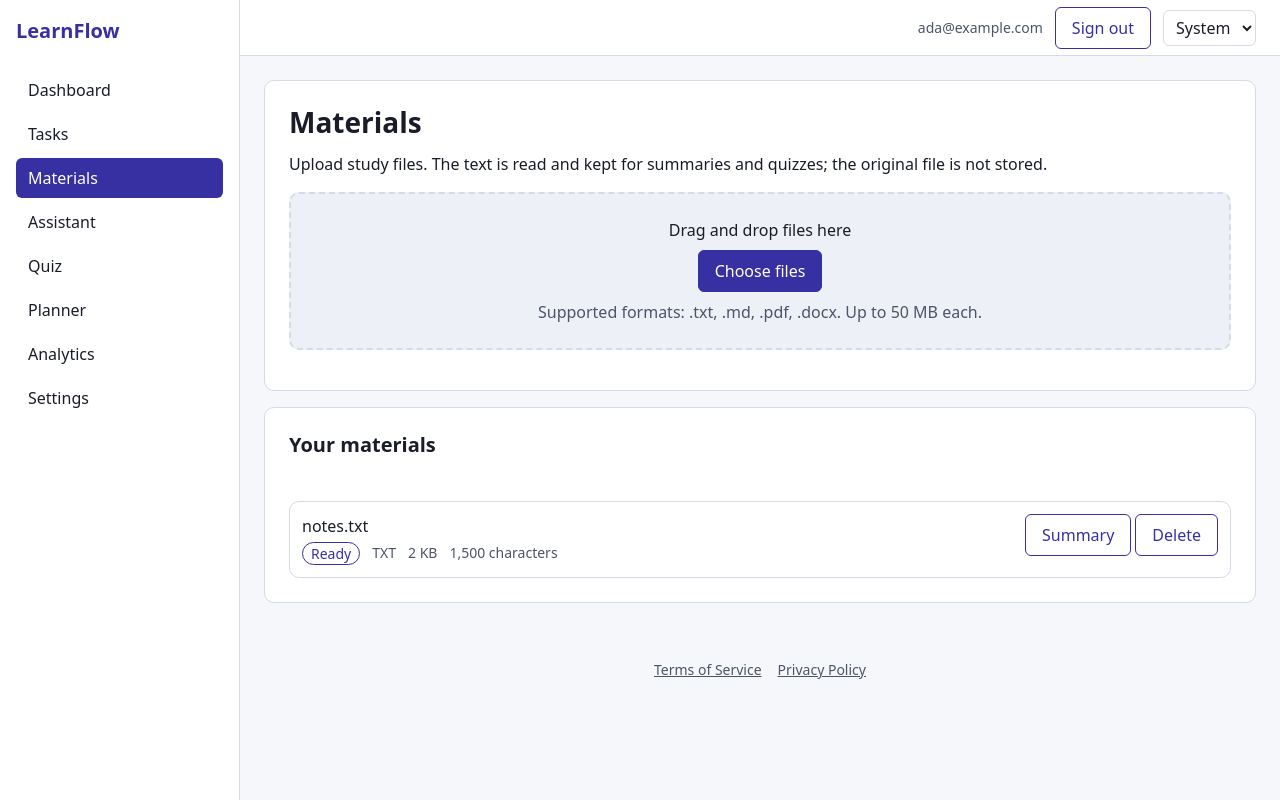
Test case: Summary panel › uses the singular for a single section
Expected: the element that starts with "Materials" is shown, [240,56,1279,643]
What coordinates should you click on to do the following:
click the button with aria-label "Summary: notes.txt"
I would click on:
 (1078, 535)
Its box is [1025,514,1131,556].
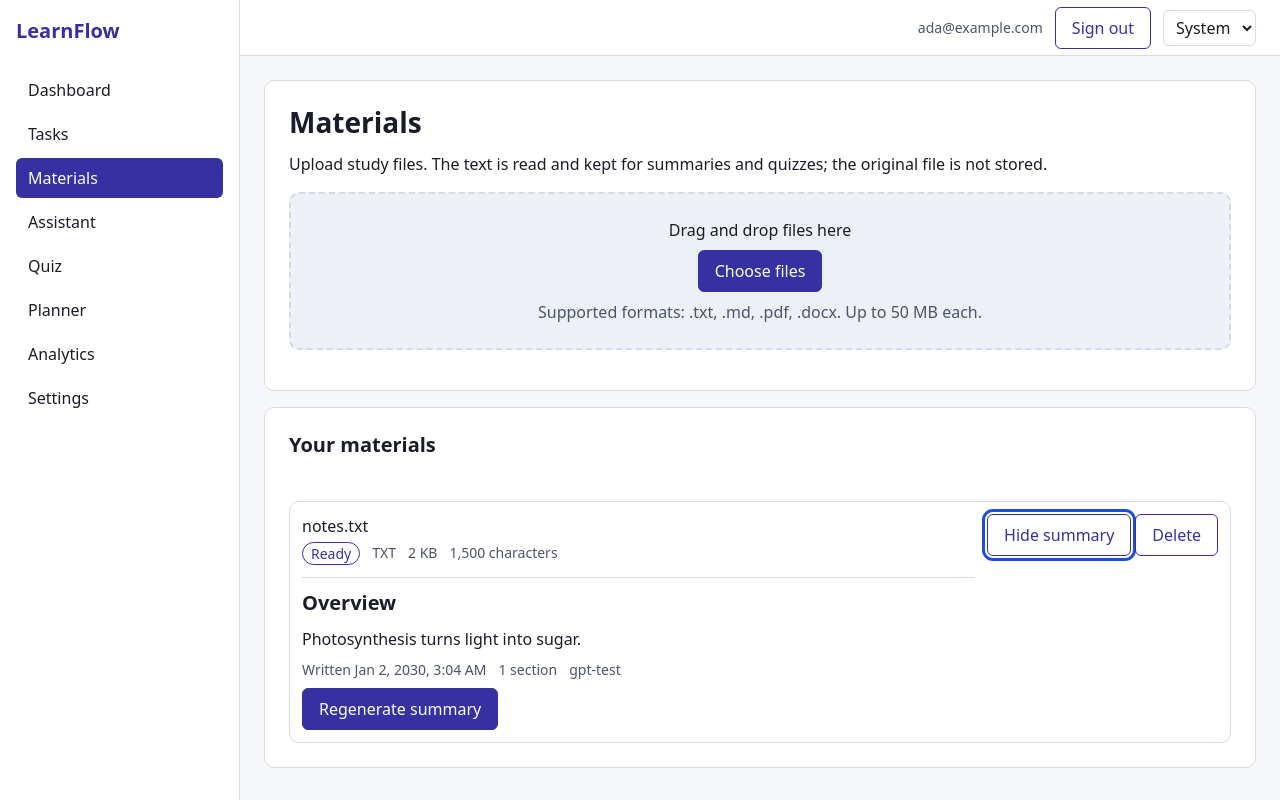
Expected: the text "1 section" is shown, [498,659,557,680]
